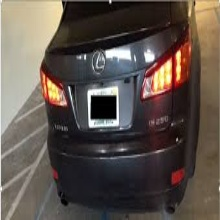no damage: (41, 2, 201, 214)
